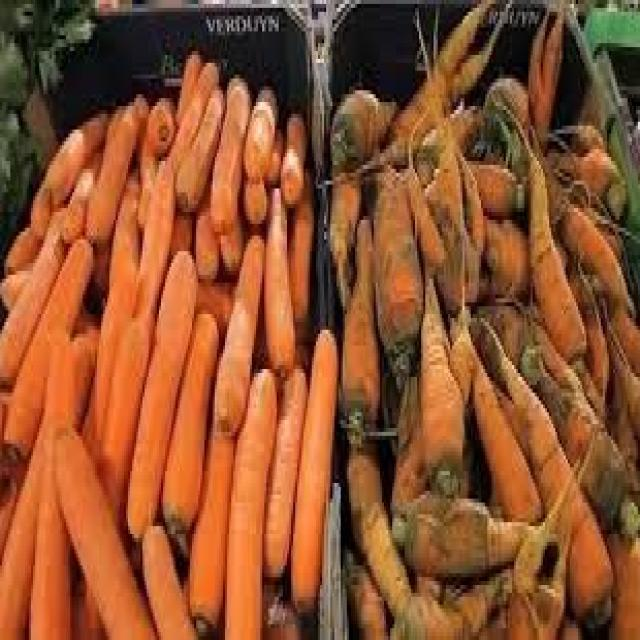food_waste: (0, 0, 638, 636)
